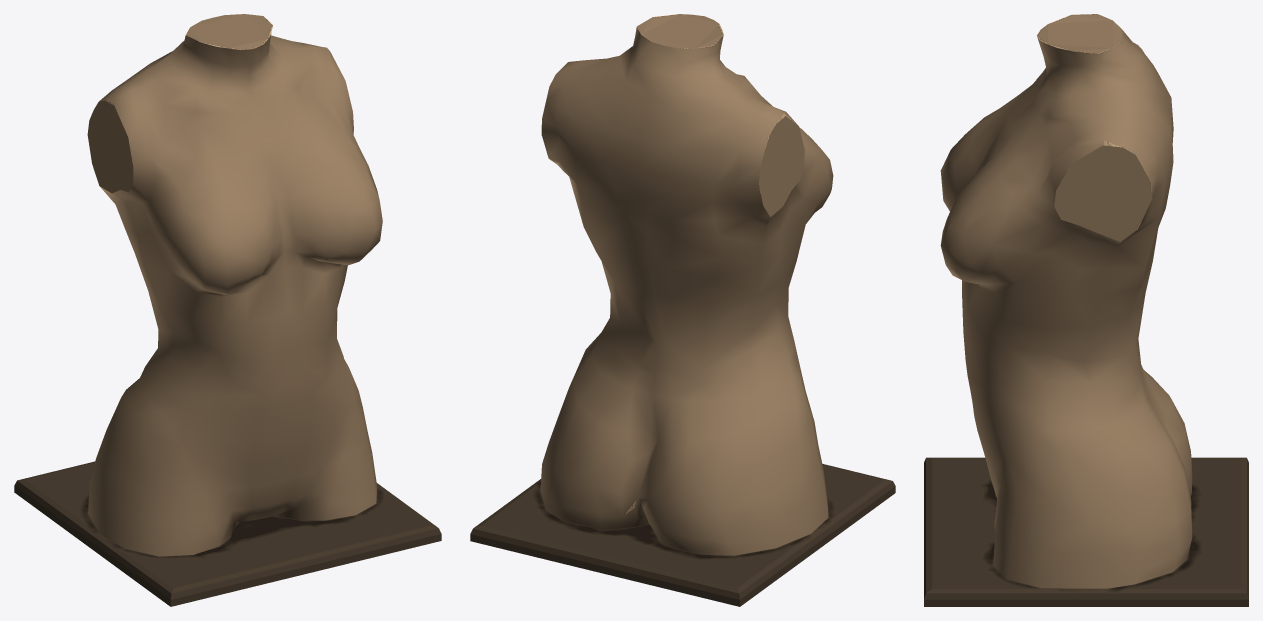
File: Statue02.FBX
3 views of the same model, side by side, from view 1: azimuth 30°, elevation 25°; view 2: azimuth 150°, elevation 25°; view 3: azimuth 270°, elevation 25° (orthographic). The views are drawn at different scales.
Visible parts, largest first — view 1: Statue02; view 2: Statue02; view 3: Statue02.
Boxes of the visible parts, x1=… form: Statue02: x1=14, y1=14, x2=441, y2=606; Statue02: x1=470, y1=14, x2=895, y2=606; Statue02: x1=924, y1=14, x2=1248, y2=606.
Bounding box in the file's own units: 400 × 688 × 400.
